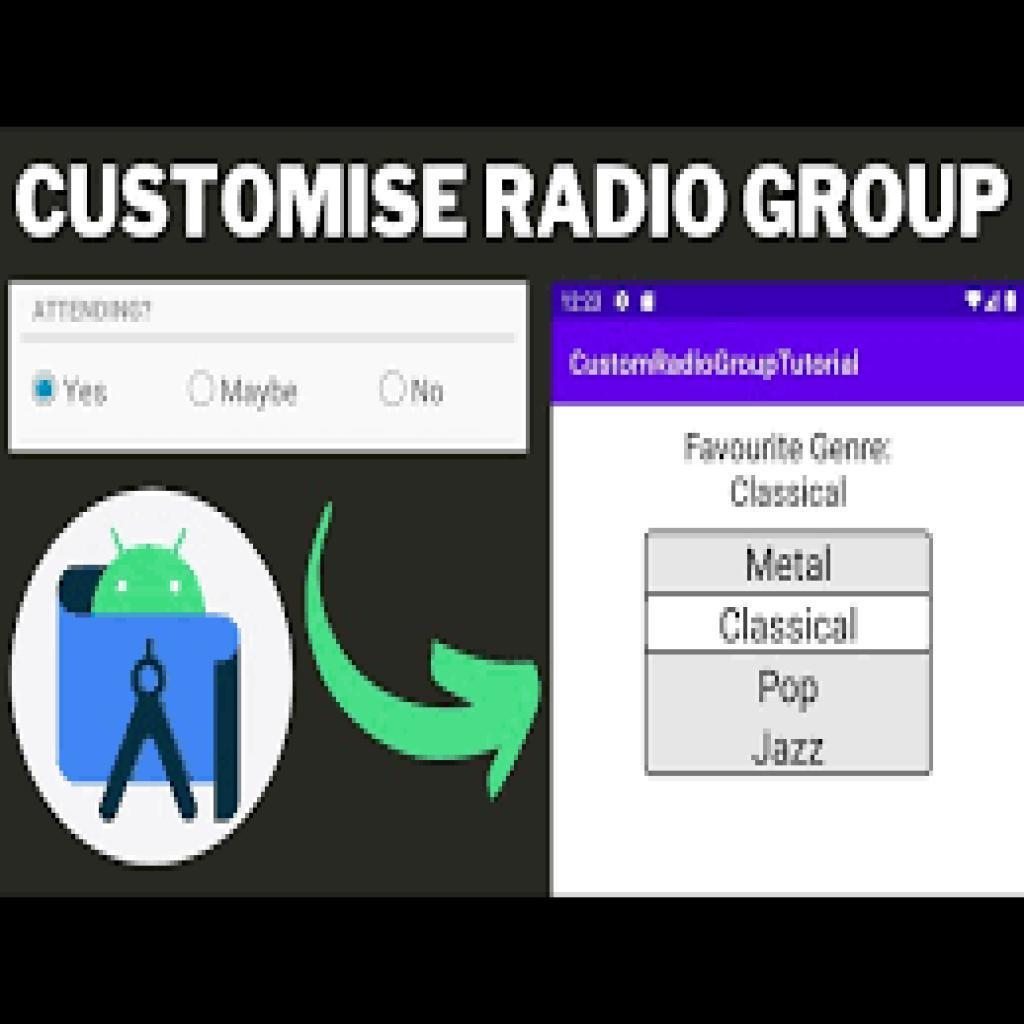radio: (377, 365, 410, 409), (29, 368, 60, 407), (187, 369, 218, 407)
